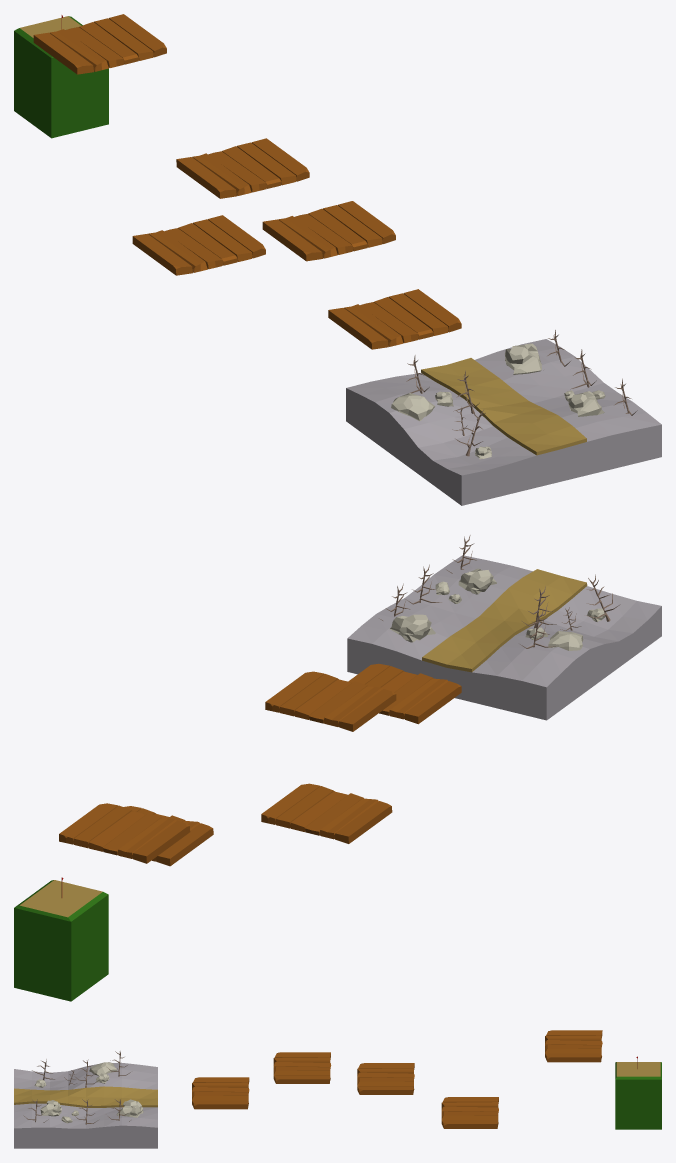
File: level3_map.fbx
3 views of the same model, one above another, from view 1: azimuth 30°, elevation 25°; view 2: azimuth 150°, elevation 25°; view 3: azimuth 270°, elevation 25° (orthographic). The views are drawn at different scales.
Visible parts, largest first — view 1: Plateforme départ, Plateforme arrivée, Route, Plateforme fissurée.002, Plateforme fissurée.003, Plateforme fissurée.004, Plateforme fissurée, Plateforme fissurée.001, Rocher2.002, Rocher1.001; view 2: Plateforme départ, Plateforme arrivée, Route, Plateforme fissurée.001, Plateforme fissurée.002, Plateforme fissurée.004, Plateforme fissurée, Plateforme fissurée.003, Rocher2.002, Rocher2.004; view 3: Plateforme départ, Plateforme arrivée, Route, Plateforme fissurée.004, Plateforme fissurée, Plateforme fissurée.001, Plateforme fissurée.003, Plateforme fissurée.002, Rocher2.002, Rocher2.004, Rocher1.001.
Part boxes in pixels (x1,y1,x2,y2): Plateforme départ: [346, 339, 661, 505]; Plateforme arrivée: [14, 16, 108, 138]; Route: [421, 358, 586, 455]; Plateforme fissurée.002: [132, 215, 265, 275]; Plateforme fissurée.003: [176, 138, 309, 198]; Plateforme fissurée.004: [33, 14, 166, 74]; Plateforme fissurée: [328, 289, 461, 349]; Plateforme fissurée.001: [262, 201, 395, 261]; Rocher2.002: [505, 343, 541, 374]; Rocher1.001: [391, 393, 435, 421]; Plateforme départ: [347, 555, 661, 720]; Plateforme arrivée: [14, 880, 108, 1001]; Route: [422, 569, 587, 672]; Plateforme fissurée.001: [265, 671, 396, 731]; Plateforme fissurée.002: [261, 783, 392, 843]; Plateforme fissurée.004: [59, 803, 190, 863]; Plateforme fissurée: [348, 663, 461, 724]; Plateforme fissurée.003: [124, 806, 213, 866]; Rocher2.002: [389, 614, 435, 642]; Rocher2.004: [458, 568, 496, 594]; Plateforme départ: [14, 1062, 157, 1148]; Plateforme arrivée: [615, 1062, 661, 1129]; Route: [14, 1086, 157, 1107]; Plateforme fissurée.004: [545, 1030, 602, 1062]; Plateforme fissurée: [192, 1077, 249, 1109]; Plateforme fissurée.001: [273, 1052, 331, 1083]; Plateforme fissurée.003: [441, 1097, 498, 1128]; Plateforme fissurée.002: [357, 1063, 414, 1094]; Rocher2.002: [116, 1099, 143, 1117]; Rocher2.004: [40, 1100, 61, 1116]; Rocher1.001: [89, 1062, 117, 1076].
Bounding box in the file's own units: 1036 × 562 × 4500.
